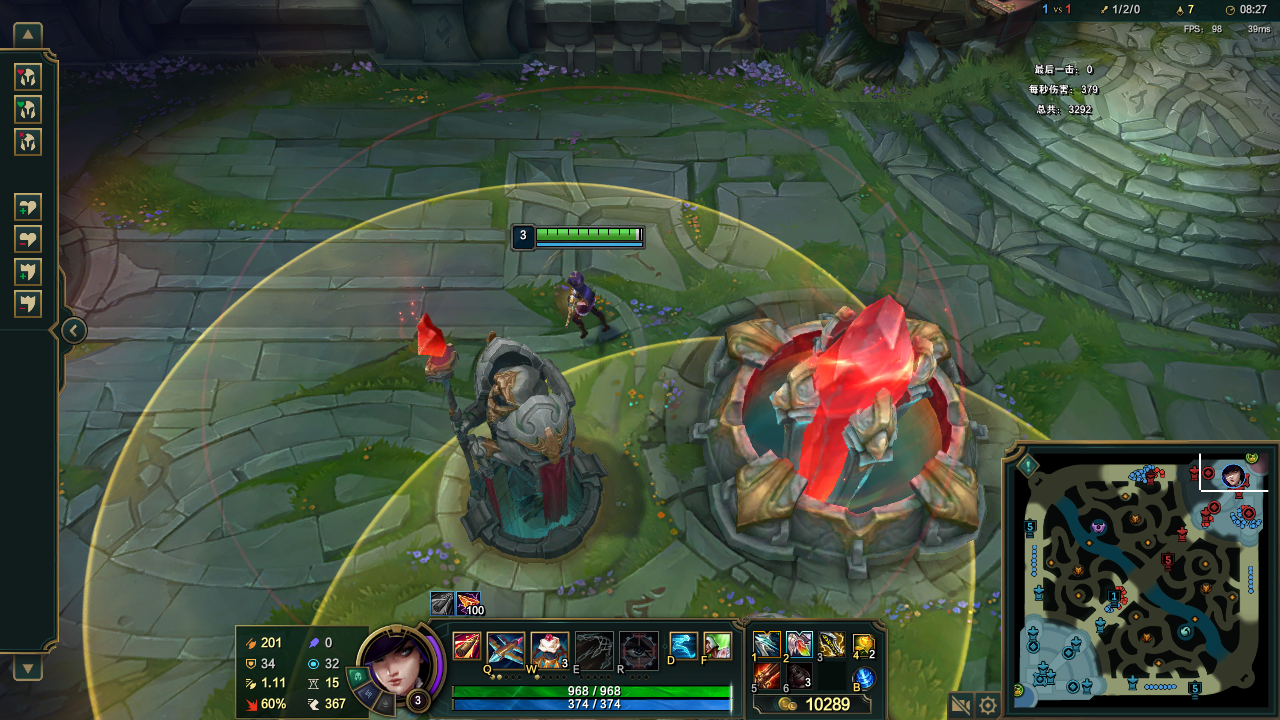DFDSJ: (716, 297, 968, 537)
DFFYT: (438, 317, 600, 563)
